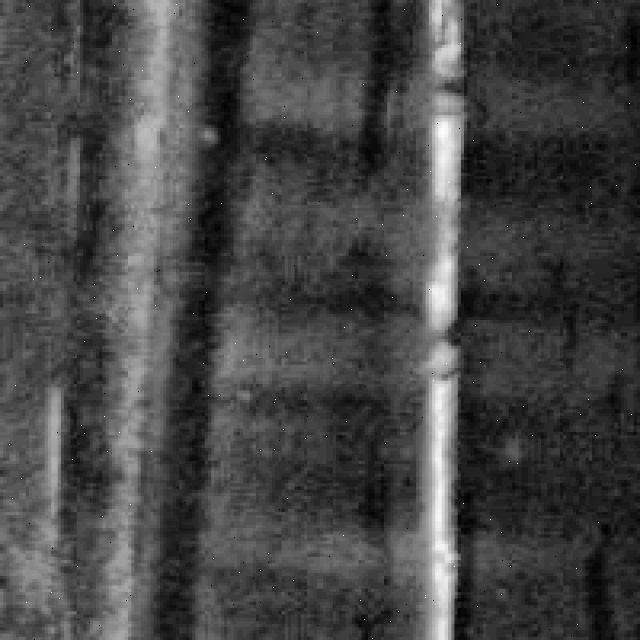Inclusion: (407, 9, 468, 634)
